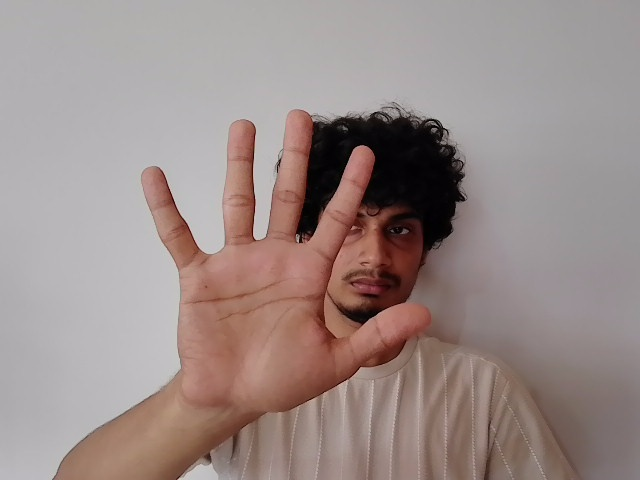goodbye: (141, 107, 436, 431)
